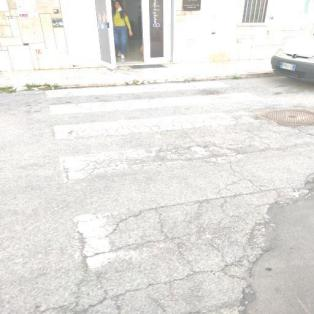Paso de Cebra: (34, 79, 268, 118)
